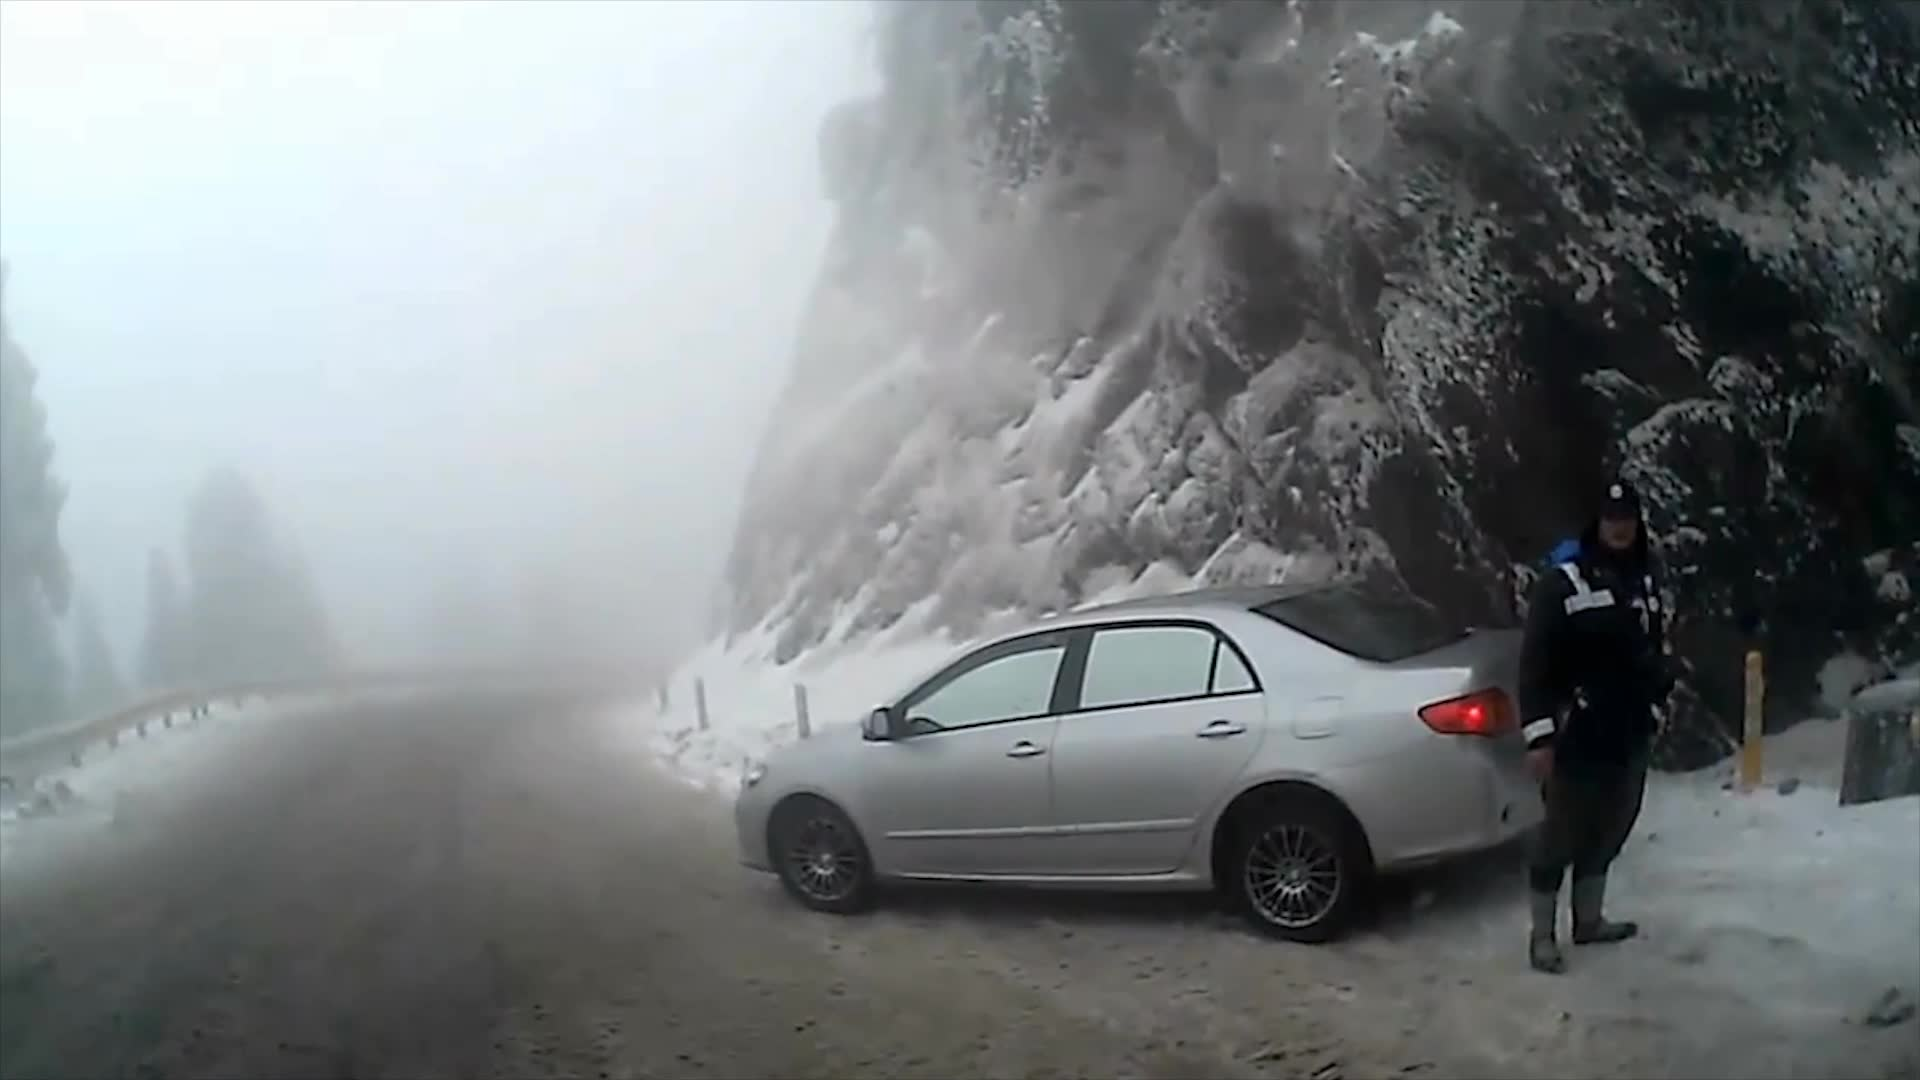pedestrian: (1522, 480, 1683, 973)
vehicle: (733, 578, 1616, 939)
